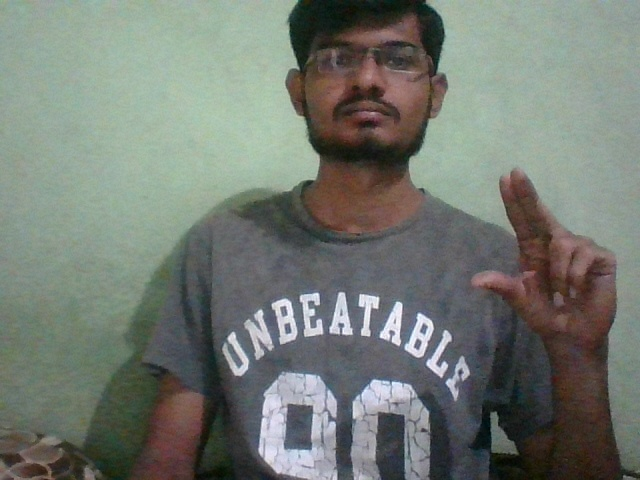no: (461, 156, 632, 343)
